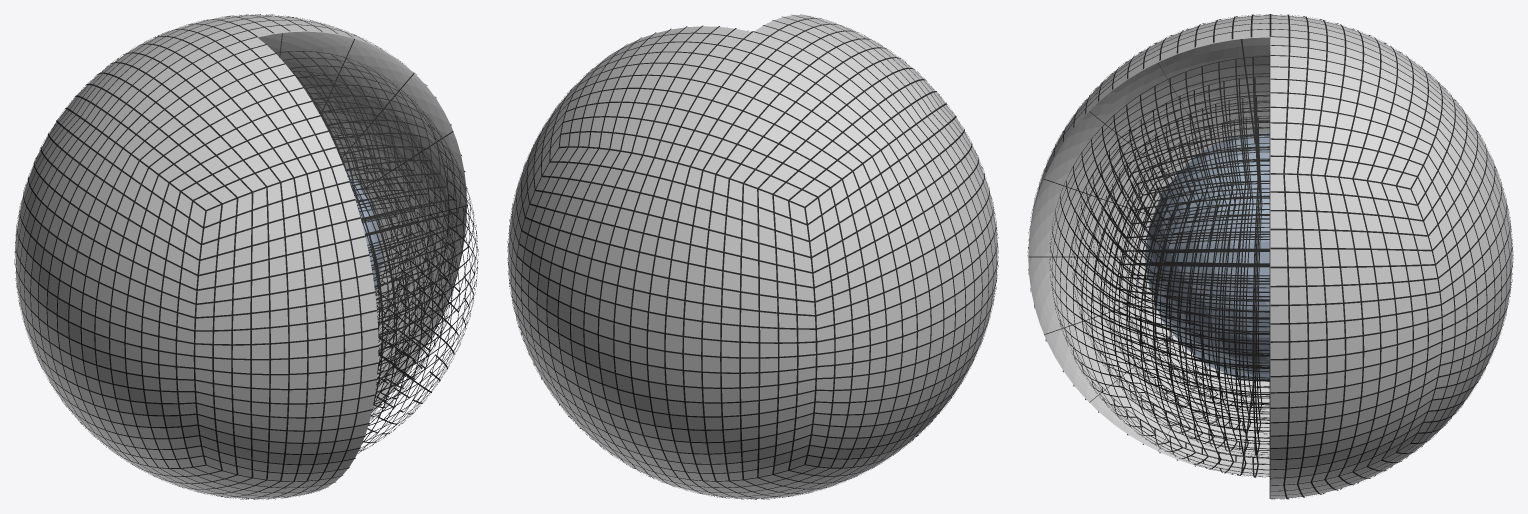
Rendered from CubedSphere_grid_3D_cutaway.glb.
3 views of the same model, side by side, from view 1: azimuth 30°, elevation 25°; view 2: azimuth 150°, elevation 25°; view 3: azimuth 270°, elevation 25° (orthographic).
Bounding box in the file's own units: 1 × 1 × 1.
